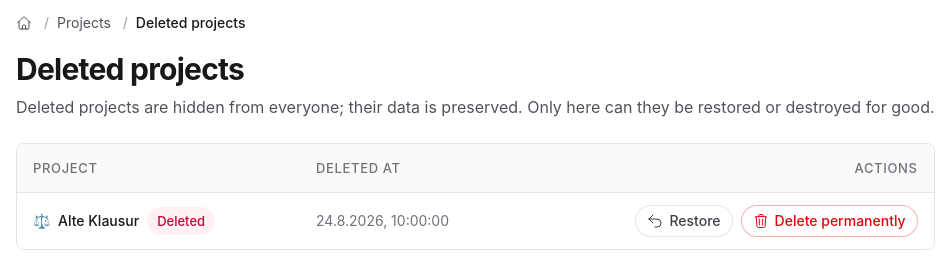
Test: DeletedProjectsPage › lists deleted projects with only_deleted and restores
Expected: the row with test id "deleted-row-p1" shows "Alte Klausur", [58,212,139,229]
Click the button with test id "deleted-restore-p1": (684, 221) [636,205,733,237]
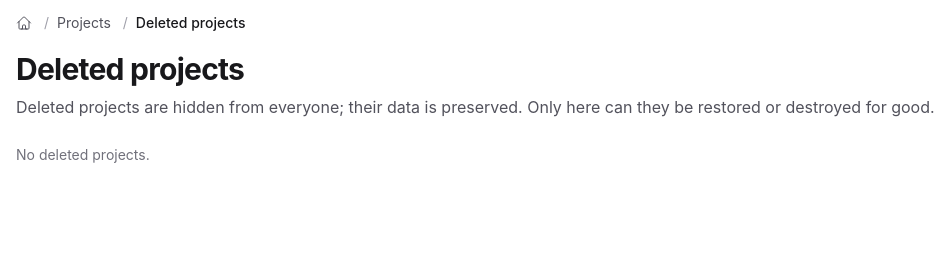
Expected: the text "No deleted projects." is shown, [16,146,150,163]
